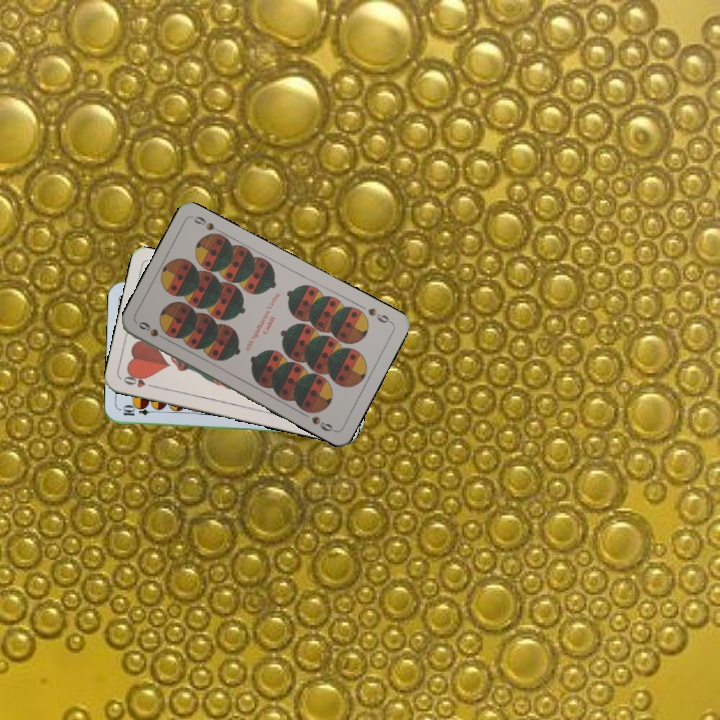E10: (119, 404, 159, 418)
HO: (119, 370, 159, 390)
S9: (134, 317, 172, 344), (364, 304, 394, 326)
